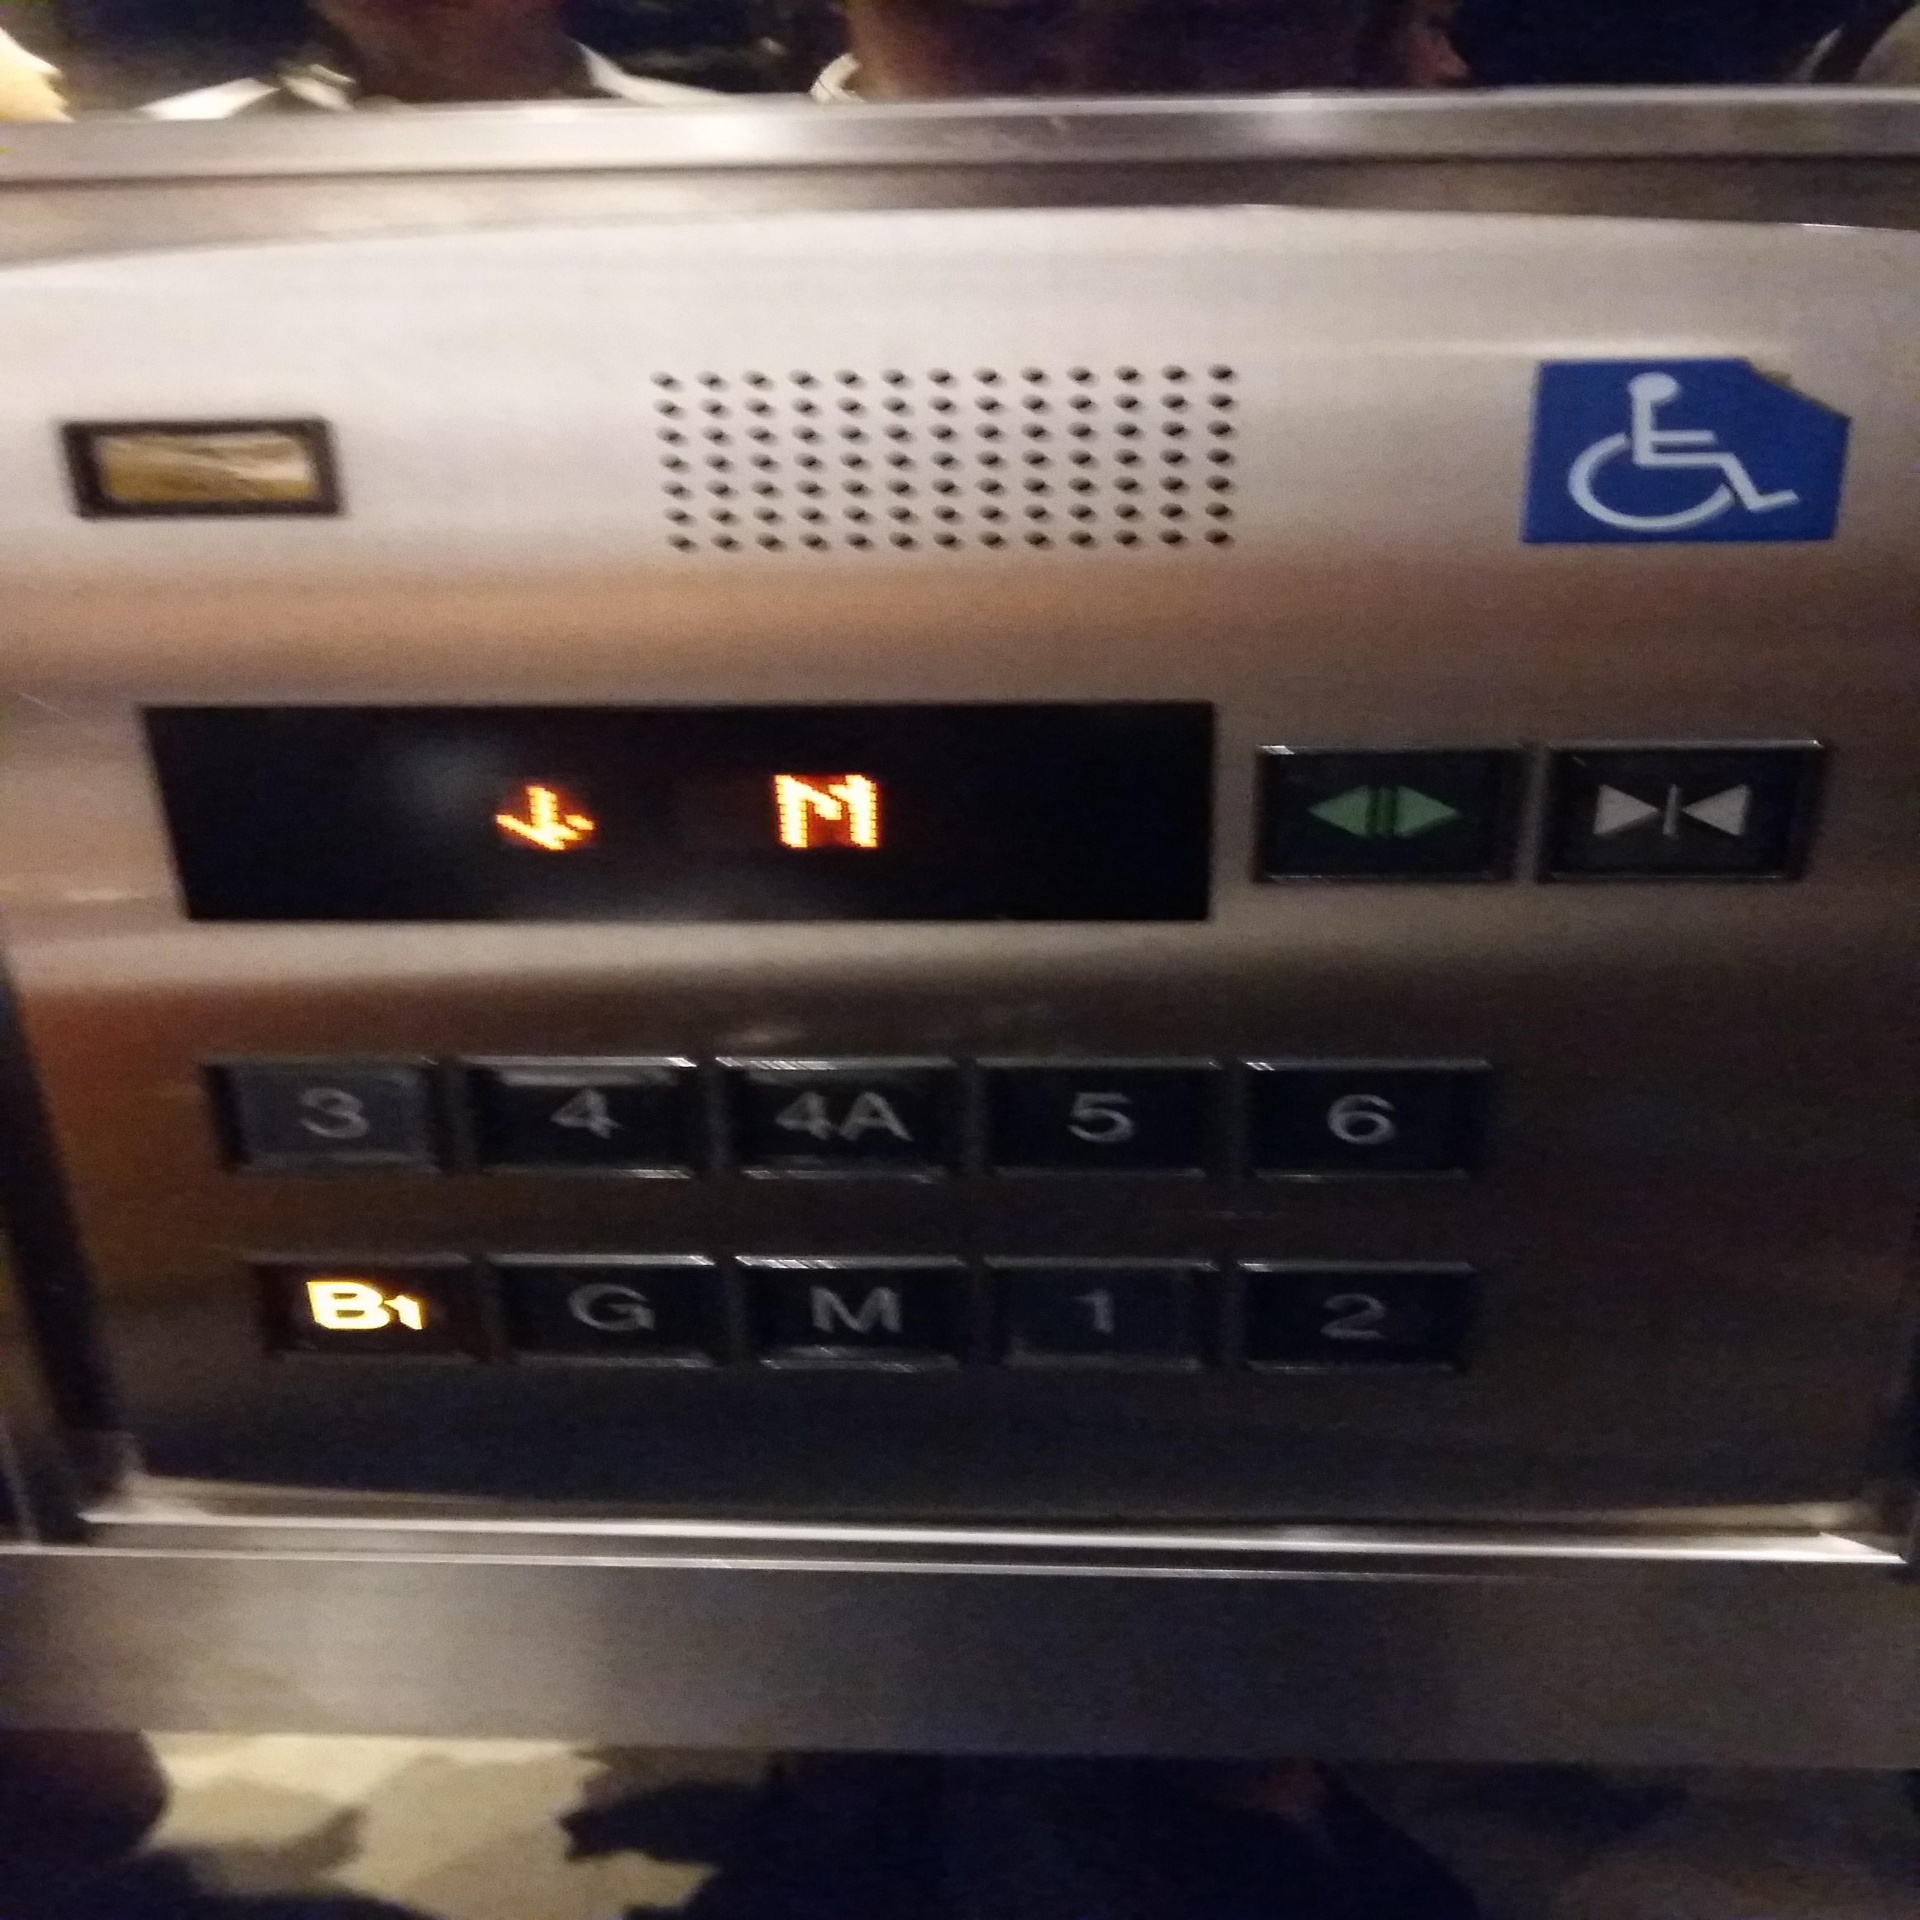1: (969, 1254, 1218, 1385)
2: (1218, 1254, 1486, 1384)
3: (193, 1051, 457, 1190)
4: (455, 1050, 709, 1189)
4A: (709, 1048, 965, 1190)
5: (964, 1050, 1224, 1192)
6: (1224, 1051, 1495, 1189)
B1: (236, 1254, 471, 1378)
CH: (1514, 343, 1857, 557)
G: (478, 1250, 721, 1382)
M: (721, 1252, 971, 1385)
close: (1535, 737, 1836, 890)
led: (128, 696, 1224, 935)
open: (1240, 738, 1531, 890)
text_blur: (44, 410, 352, 526)
